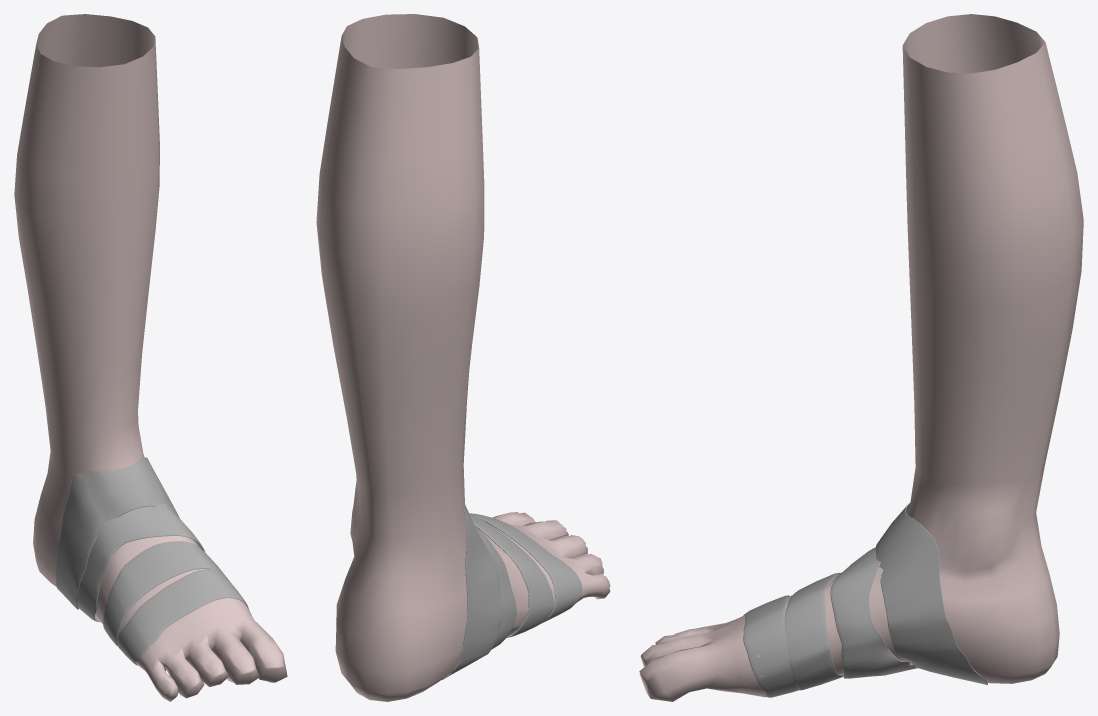
File: LacFootWrap.fbx
3 views of the same model, side by side, from view 1: azimuth 30°, elevation 25°; view 2: azimuth 150°, elevation 25°; view 3: azimuth 270°, elevation 25° (orthographic). The views are drawn at different scales.
Parts seen in each view (by area): view 1: pCube12, Cylinder.002, pCube11; view 2: pCube12, Cylinder.002, pCube11; view 3: pCube12, Cylinder.002, pCube11.
Boxes of the visible parts, x1=… form: pCube12: x1=14, y1=14, x2=287, y2=701; Cylinder.002: x1=56, y1=457, x2=248, y2=665; pCube11: x1=36, y1=14, x2=257, y2=679; pCube12: x1=316, y1=14, x2=610, y2=701; Cylinder.002: x1=442, y1=504, x2=582, y2=679; pCube11: x1=341, y1=14, x2=604, y2=599; pCube12: x1=639, y1=14, x2=1083, y2=701; Cylinder.002: x1=743, y1=502, x2=987, y2=697; pCube11: x1=833, y1=14, x2=1044, y2=683.
Size of the model in its own units: 1.12 by 4.63 by 2.9.
